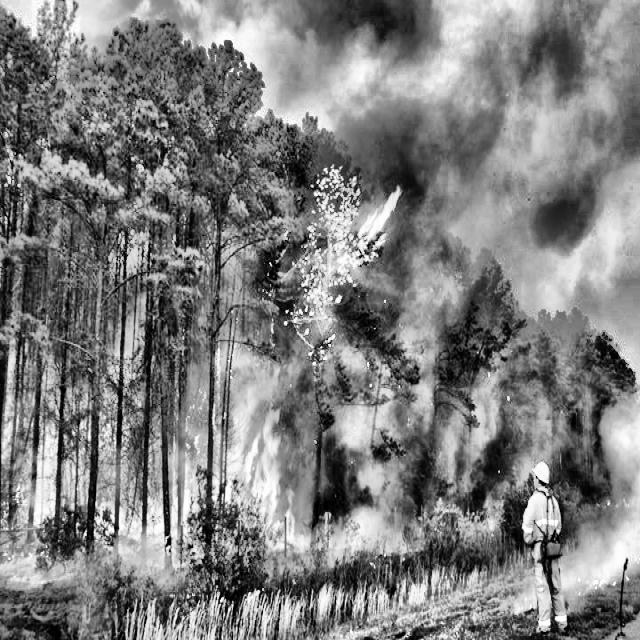fire: (16, 111, 404, 639)
